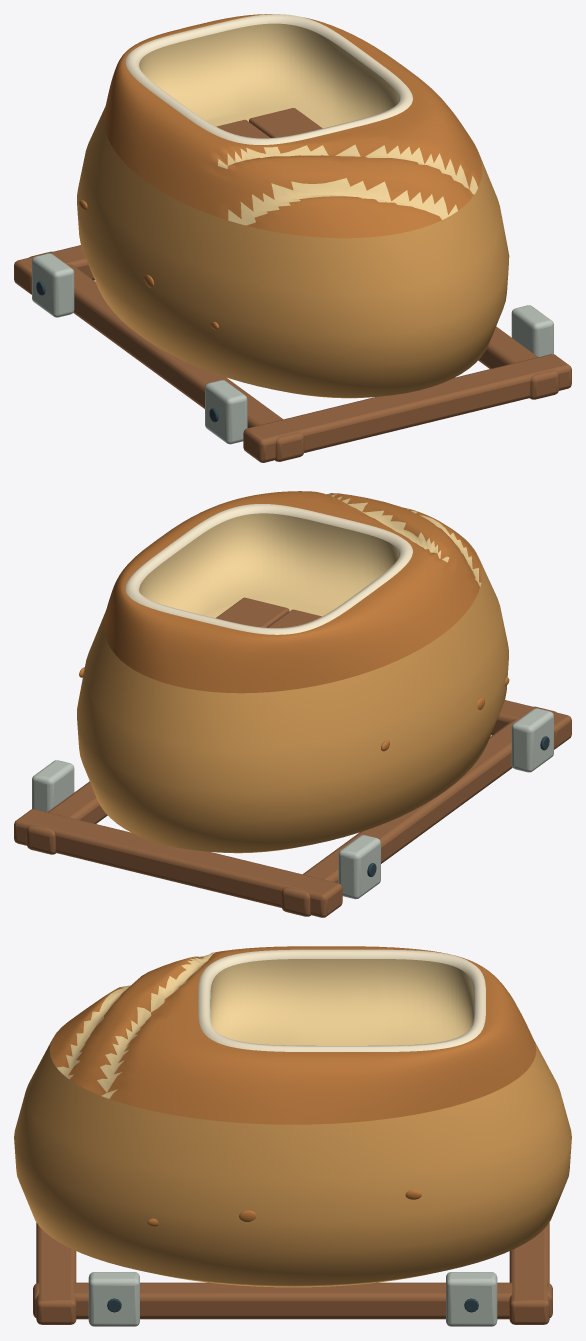
Rendered from sourdough.glb.
3 views of the same model, one above another, from view 1: azimuth 30°, elevation 25°; view 2: azimuth 150°, elevation 25°; view 3: azimuth 270°, elevation 25° (orthographic). The views are drawn at different scales.
Parts seen in each view (by area): view 1: sourdough_SF_BakedGold, sourdough_SF_BakedCrust_DD_Bread, sourdough_SF_SoapboxWood, sourdough_DD_Bread, sourdough_DD_Metal, sourdough_DD_Cream; view 2: sourdough_SF_BakedGold, sourdough_SF_BakedCrust_DD_Bread, sourdough_SF_SoapboxWood, sourdough_DD_Bread, sourdough_DD_Metal, sourdough_DD_Cream; view 3: sourdough_SF_BakedGold, sourdough_SF_BakedCrust_DD_Bread, sourdough_DD_Bread, sourdough_SF_SoapboxWood, sourdough_DD_Cream, sourdough_DD_Metal.
Boxes of the visible parts, x1,y1,x2,y2 form: sourdough_SF_BakedGold: (77, 107, 508, 398); sourdough_SF_BakedCrust_DD_Bread: (104, 14, 481, 238); sourdough_SF_SoapboxWood: (14, 108, 571, 462); sourdough_DD_Bread: (139, 23, 398, 128); sourdough_DD_Metal: (32, 253, 553, 444); sourdough_DD_Cream: (125, 14, 412, 144); sourdough_SF_BakedGold: (77, 559, 508, 853); sourdough_SF_BakedCrust_DD_Bread: (104, 491, 481, 693); sourdough_SF_SoapboxWood: (14, 597, 571, 917); sourdough_DD_Bread: (139, 513, 398, 618); sourdough_DD_Metal: (32, 708, 553, 899); sourdough_DD_Cream: (125, 504, 412, 634); sourdough_SF_BakedGold: (14, 1040, 571, 1287); sourdough_SF_BakedCrust_DD_Bread: (49, 946, 536, 1124); sourdough_DD_Bread: (210, 959, 473, 1045); sourdough_SF_SoapboxWood: (33, 1222, 552, 1324); sourdough_DD_Cream: (198, 949, 485, 1051); sourdough_DD_Metal: (88, 1272, 497, 1326).
Size of the model in its own units: 1.8 by 1.24 by 2.5.
